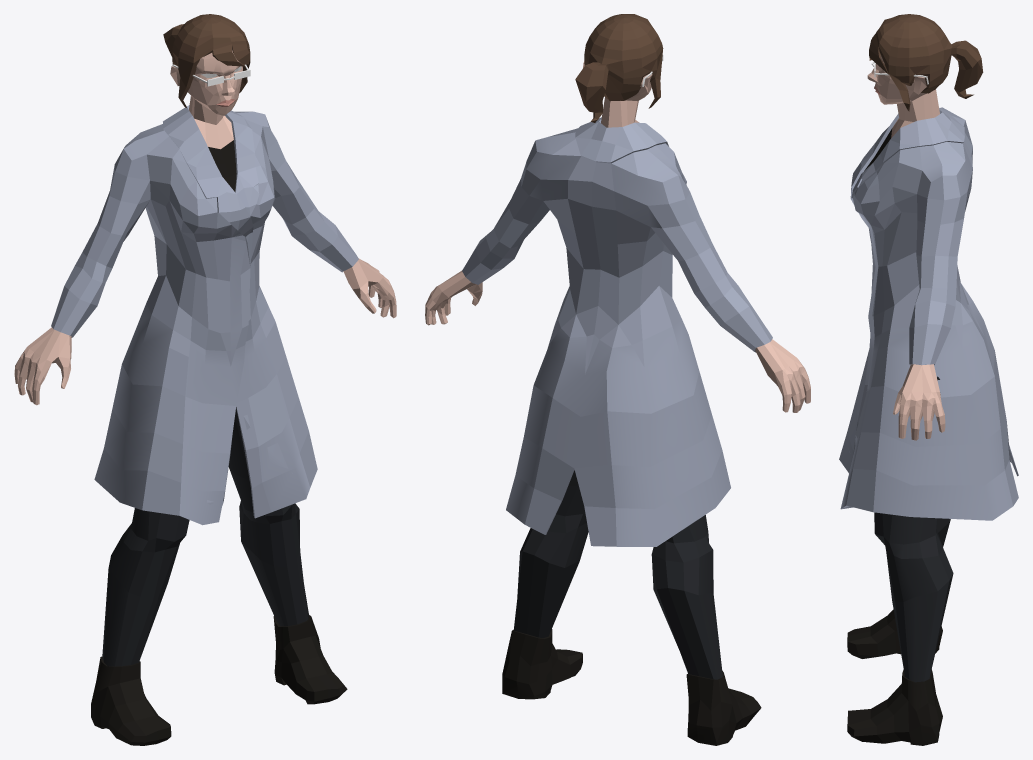
Rendered from profWoman_pony.fbx.
The picture shows the model from 3 angles, left to right: view 1: azimuth 30°, elevation 25°; view 2: azimuth 150°, elevation 25°; view 3: azimuth 270°, elevation 25°; orthographic projection. The views are drawn at different scales.
Parts seen in each view (by area): view 1: WomanPony; view 2: WomanPony; view 3: WomanPony.
Boxes of the visible parts, <box> form: WomanPony: <box>14,14,396,745</box>; WomanPony: <box>425,14,810,745</box>; WomanPony: <box>839,14,1018,745</box>.
Bounding box in the file's own units: 1.11 × 1.99 × 0.4791.
1 material, 1 textured.
